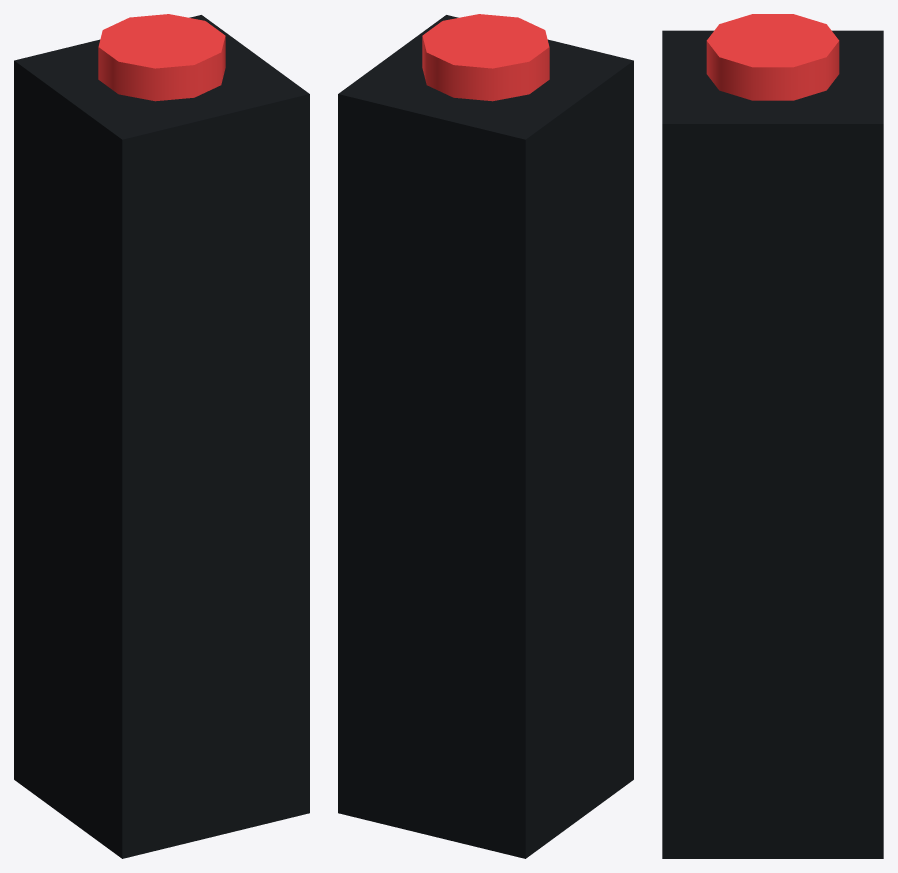
The picture shows the model from 3 angles, left to right: view 1: azimuth 30°, elevation 25°; view 2: azimuth 150°, elevation 25°; view 3: azimuth 270°, elevation 25°; orthographic projection. The views are drawn at different scales.
Parts seen in each view (by area): view 1: pedestal, button; view 2: pedestal, button; view 3: pedestal, button.
Boxes of the visible parts, bbox=[...] form: pedestal: bbox=[14, 15, 309, 858]; button: bbox=[98, 14, 225, 101]; pedestal: bbox=[338, 15, 633, 858]; button: bbox=[422, 14, 549, 101]; pedestal: bbox=[662, 30, 883, 858]; button: bbox=[706, 14, 839, 100].
Bounding box in the file's own units: 0.3 × 1.16 × 0.3.
